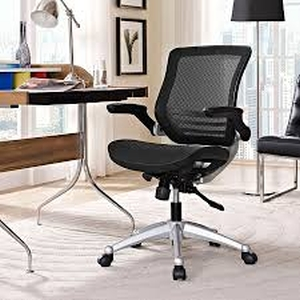chair: (97, 46, 258, 282)
